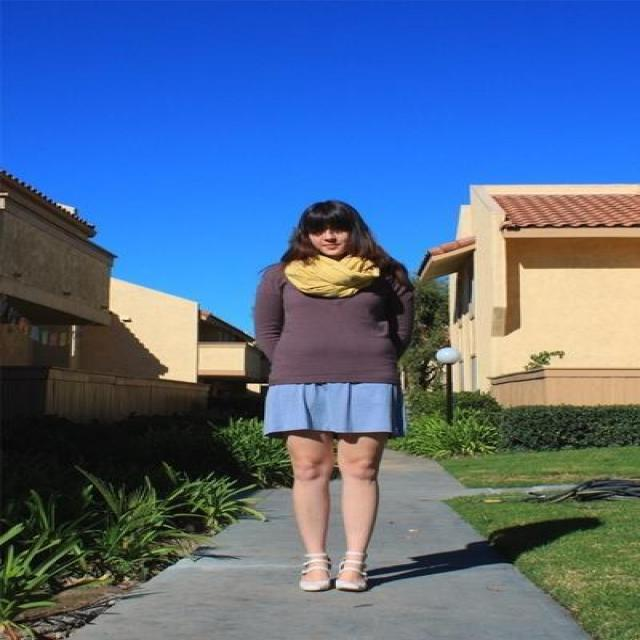shirt: (251, 257, 435, 400)
shoe: (299, 269, 379, 589)
skirt: (250, 383, 390, 434)
